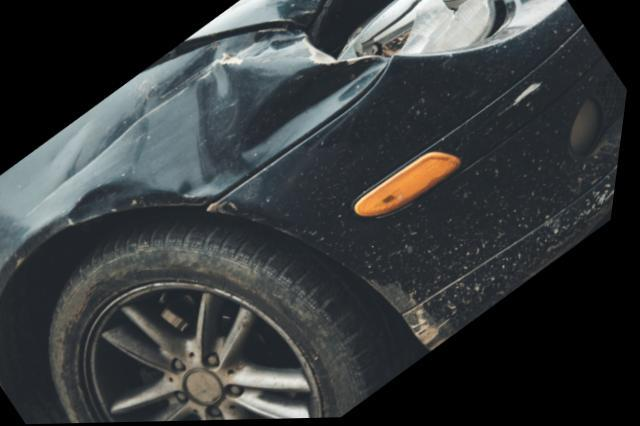dent: (10, 32, 390, 222)
lamp broken: (309, 0, 501, 63)
scratch: (411, 305, 470, 352), (501, 82, 554, 117)
